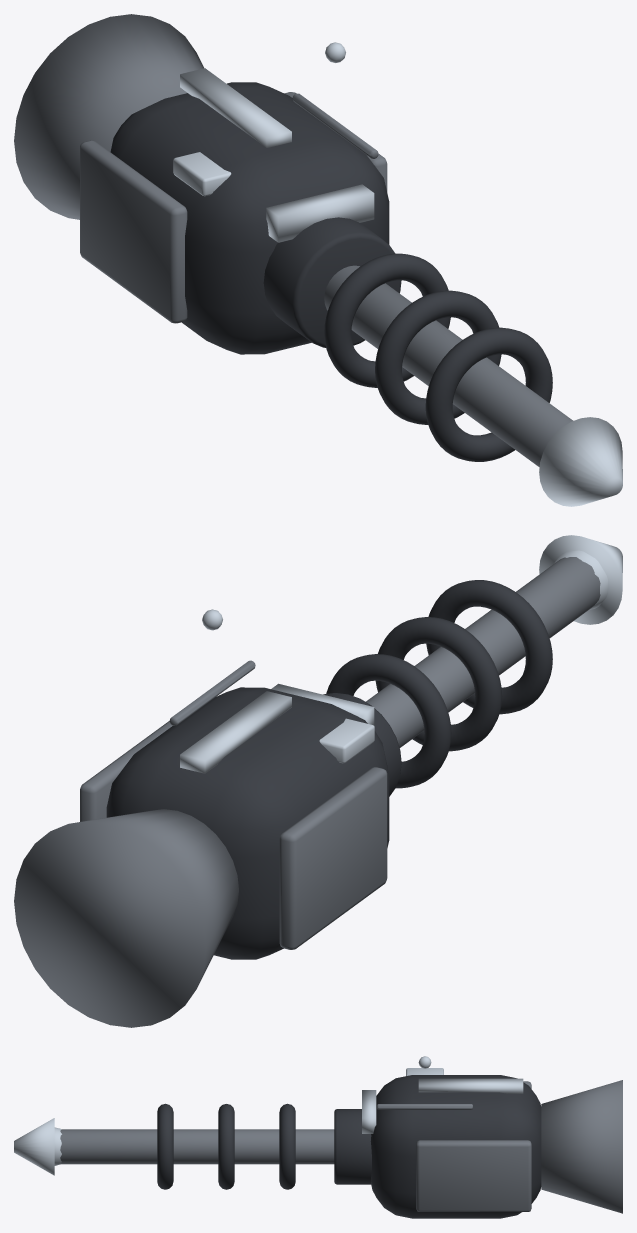
File: weapon_drone_quasar.glb
The picture shows the model from 3 angles, top to bottom: view 1: azimuth 30°, elevation 25°; view 2: azimuth 150°, elevation 25°; view 3: azimuth 270°, elevation 25°; orthographic projection. The views are drawn at different scales.
Visible parts, largest first — view 1: weapon_drone_quasar; view 2: weapon_drone_quasar; view 3: weapon_drone_quasar.
Boxes of the visible parts, <box> form: weapon_drone_quasar: <box>14,14,622,506</box>; weapon_drone_quasar: <box>14,535,622,1027</box>; weapon_drone_quasar: <box>14,1056,622,1218</box>.
Size of the model in its own units: 0.5184 by 0.64 by 2.09.
